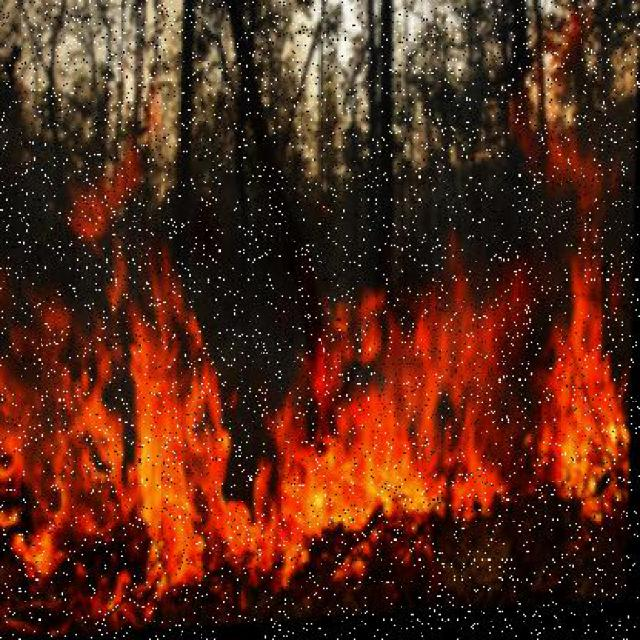fire: (1, 225, 635, 609)
